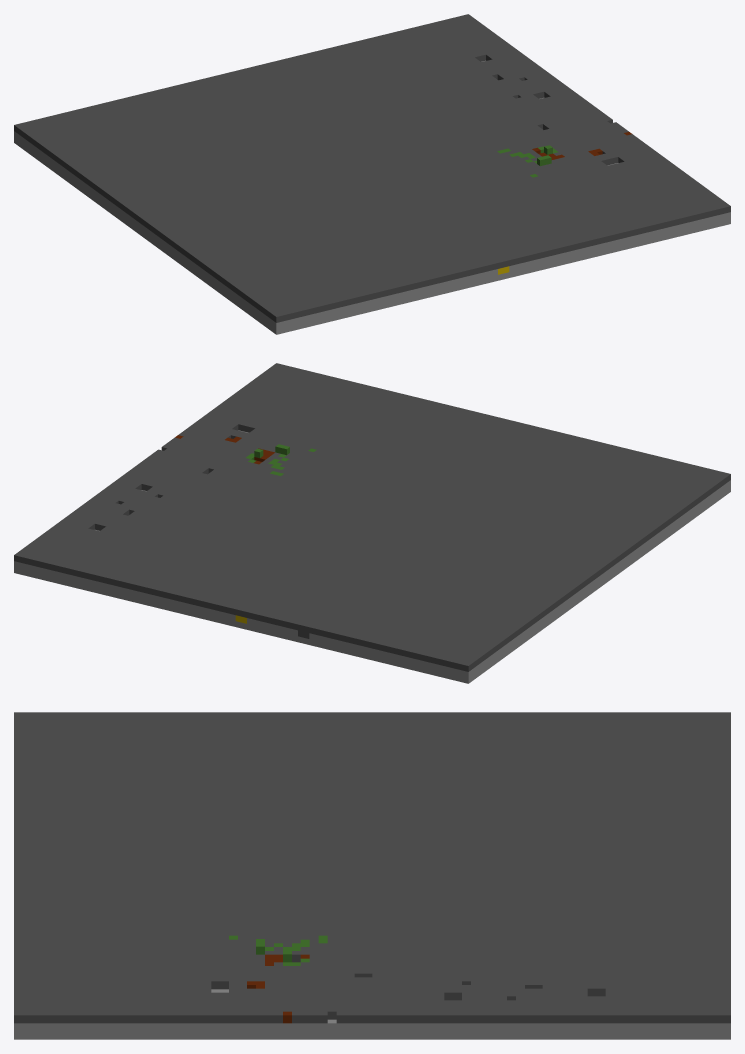
Rendered from ground.obj.
3 renders of one model, top to bottom at view 1: azimuth 30°, elevation 25°; view 2: azimuth 150°, elevation 25°; view 3: azimuth 270°, elevation 25°, orthographic. The views are drawn at different scales.
Bounding box in the file's own units: 8 × 0.4 × 8.
1 material, 1 textured.
